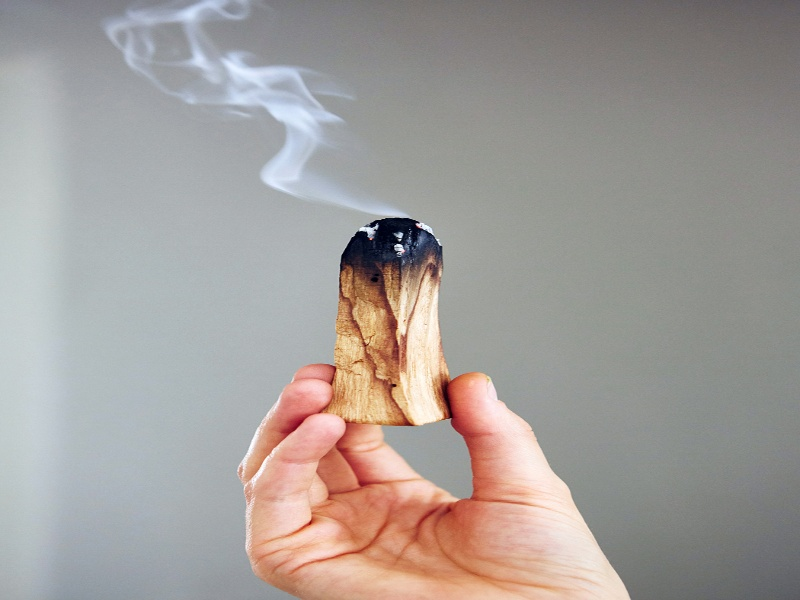smoke: (134, 1, 322, 194)
